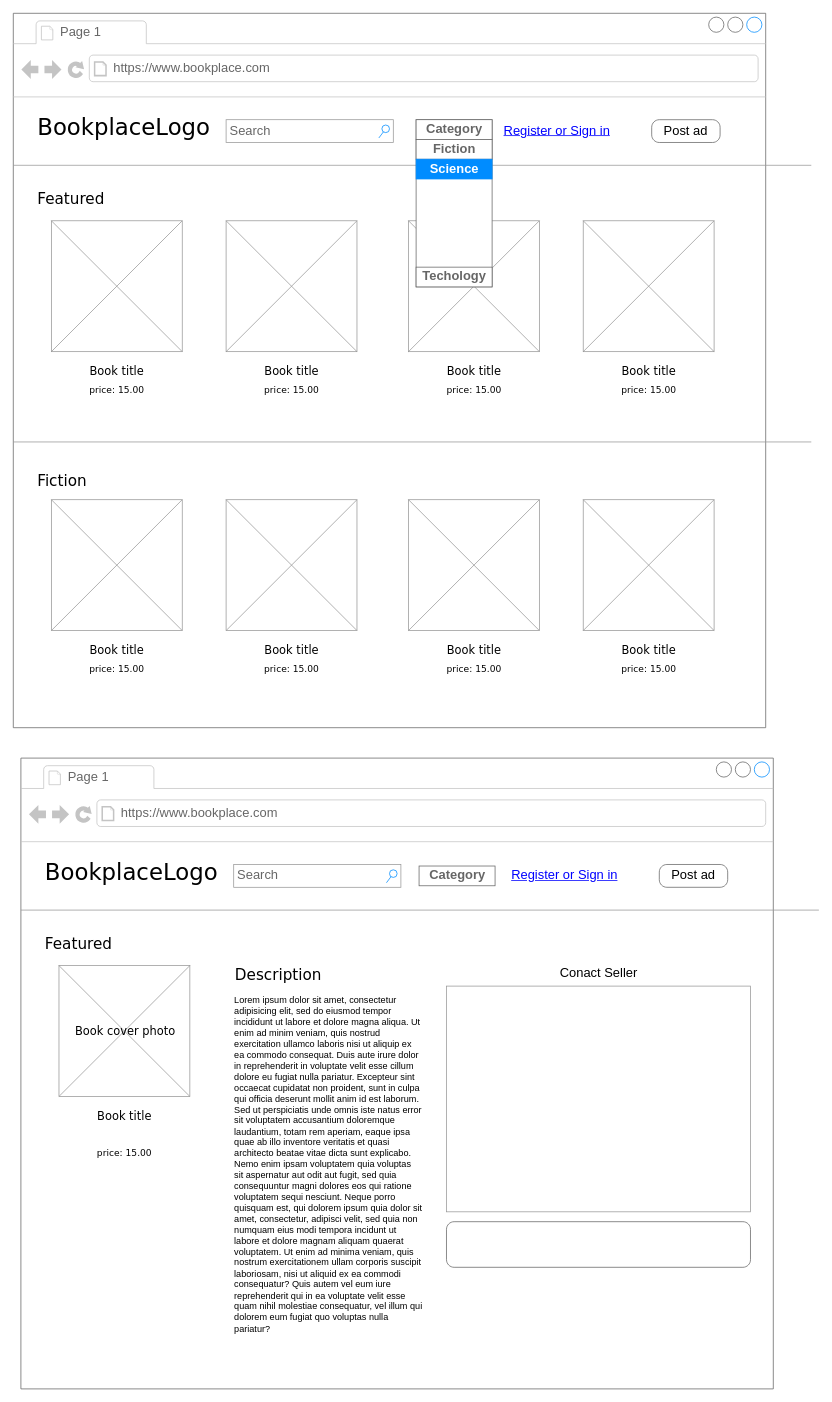
The diagram is 832 pixels wide and 1402 high, and some of its shapes have lost their labels. Each missing label, with the centre of its shape:
"Hi, I'm interested! Please contact me if this is still available." goes at (x=598, y=1098).
"Send message" goes at (x=598, y=1244).
